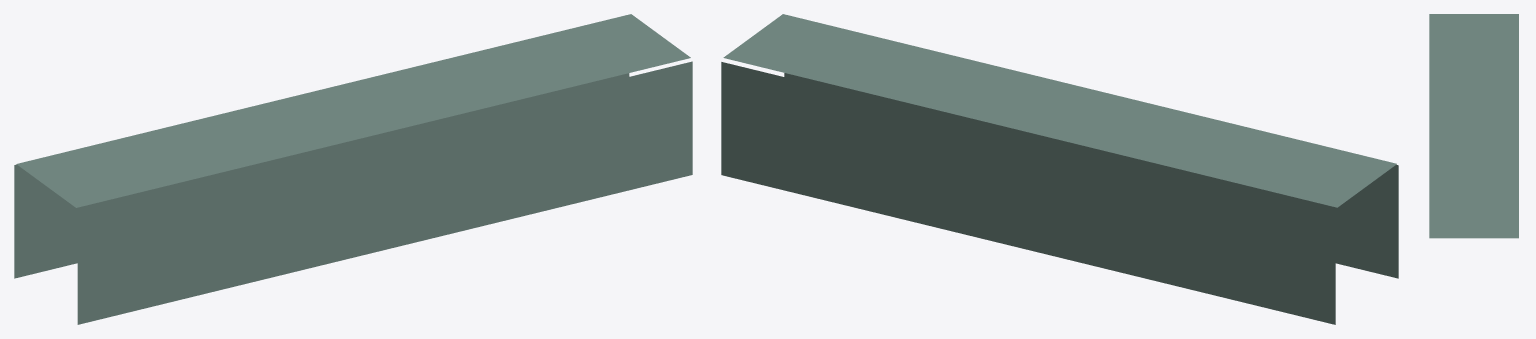
The model's file is SM_Prop_DisplayCase_Glass_01.fbx.
The picture shows the model from 3 angles, left to right: view 1: azimuth 30°, elevation 25°; view 2: azimuth 150°, elevation 25°; view 3: azimuth 270°, elevation 25°; orthographic projection. The views are drawn at different scales.
Visible parts, largest first — view 1: SM_Prop_DisplayCase_Glass_01; view 2: SM_Prop_DisplayCase_Glass_01; view 3: SM_Prop_DisplayCase_Glass_01.
Boxes of the visible parts, x1,y1,x2,y2 form: SM_Prop_DisplayCase_Glass_01: (14, 14, 692, 324); SM_Prop_DisplayCase_Glass_01: (721, 14, 1398, 324); SM_Prop_DisplayCase_Glass_01: (1429, 14, 1518, 238).
Size of the model in its own units: 2.45 by 0.4416 by 0.4366.
